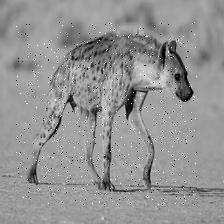hyena: (16, 23, 197, 206)
